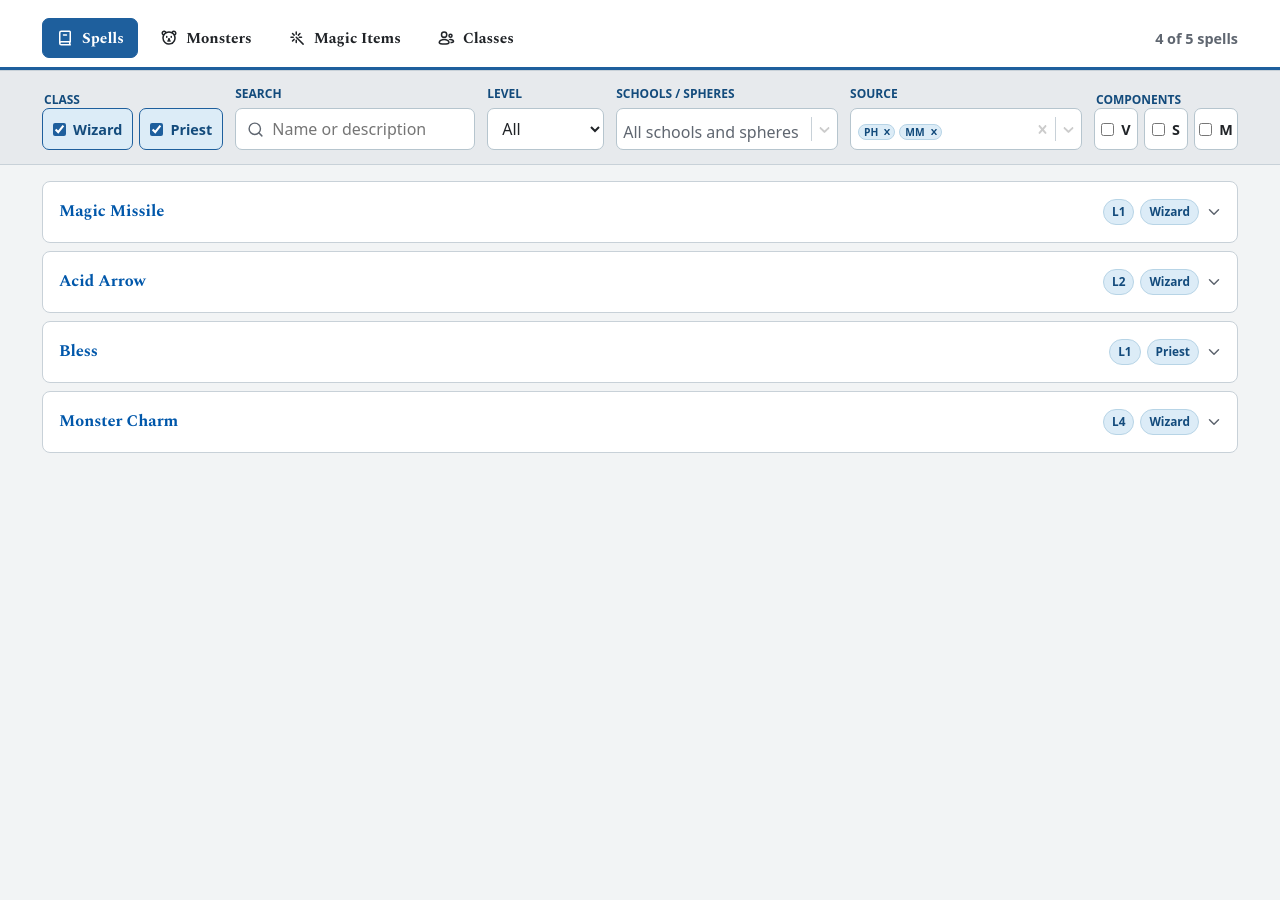
it: App › labels priest spell taxonomy as spheres
Step 1. Click the text "Bless" → (78, 352), box [59,342,98,362]
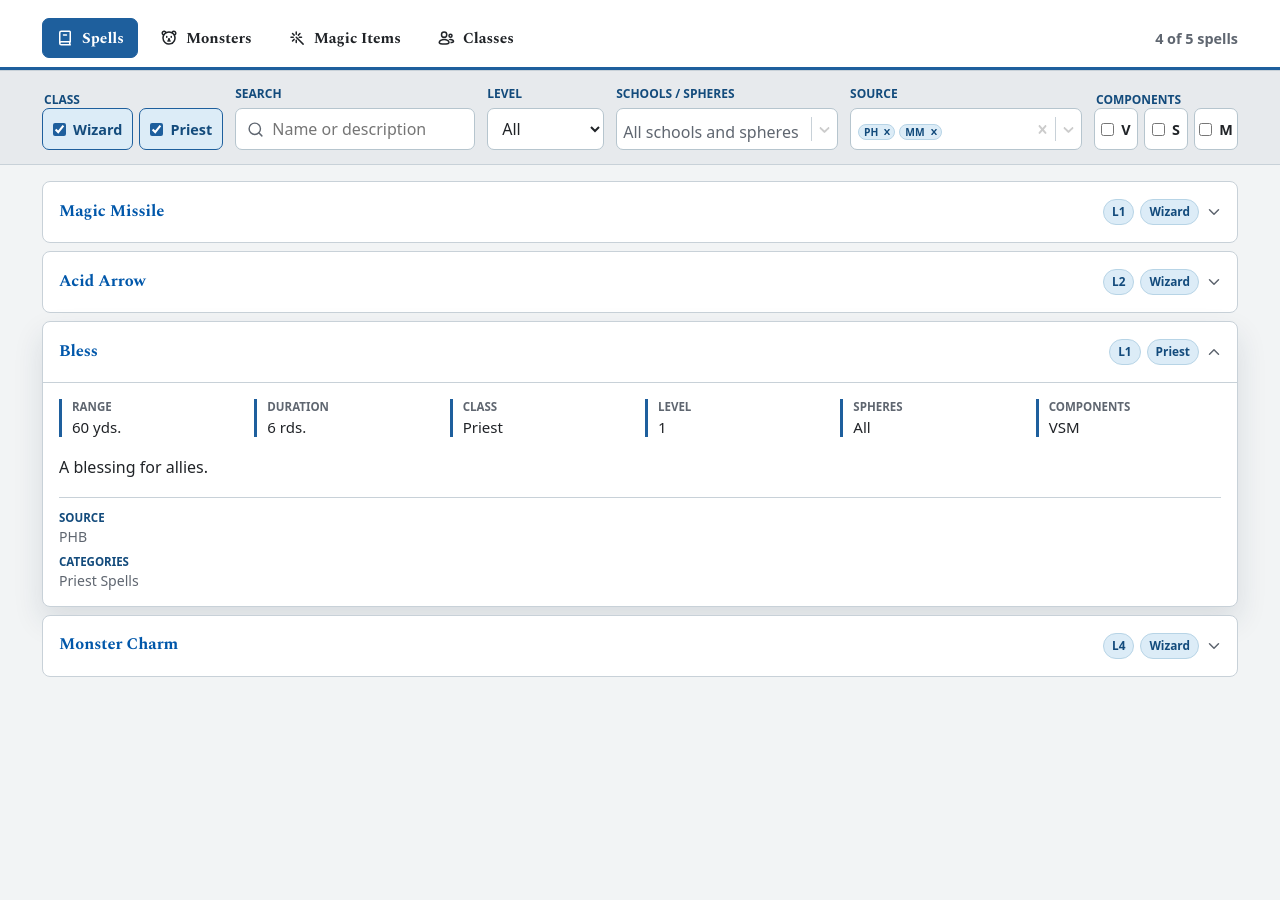
Expected: the text "Spheres" is shown, [853,399,902,414]
Expected: the text "All" is shown, [853,417,871,437]
